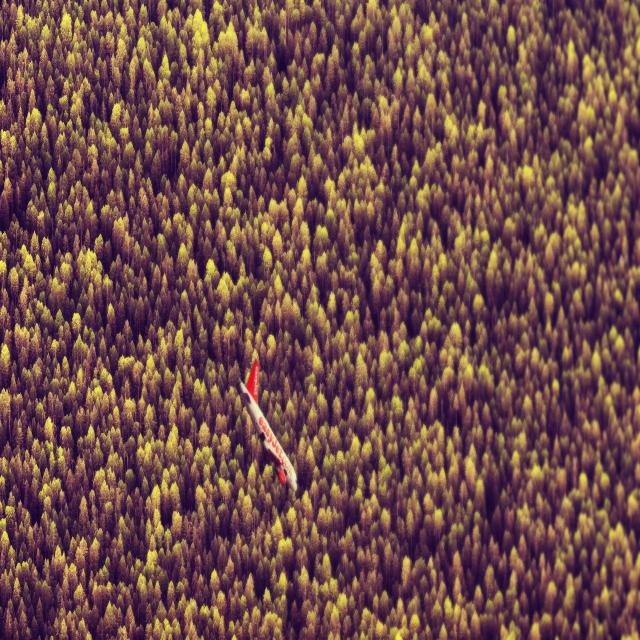airplane: (238, 358, 298, 492)
